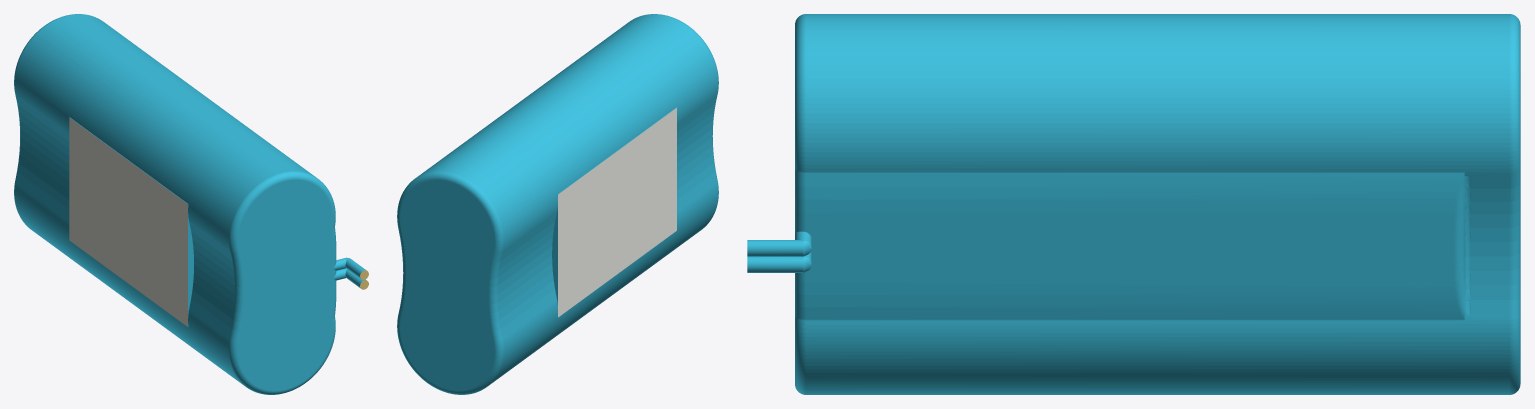
The model's file is ohstem_baterry_8-2v.glb.
3 views of the same model, side by side, from view 1: azimuth 30°, elevation 25°; view 2: azimuth 150°, elevation 25°; view 3: azimuth 270°, elevation 25° (orthographic). The views are drawn at different scales.
Parts seen in each view (by area): view 1: Node1, Node2; view 2: Node1, Node2; view 3: Node1.
Boxes of the visible parts, box(x1,y1,x2,y2) form: Node1: box(14, 14, 366, 394); Node2: box(69, 117, 187, 326); Node1: box(397, 14, 718, 394); Node2: box(558, 108, 676, 317); Node1: box(747, 14, 1520, 394).
Size of the model in its own units: 20.75 by 35.8 by 69.25.
